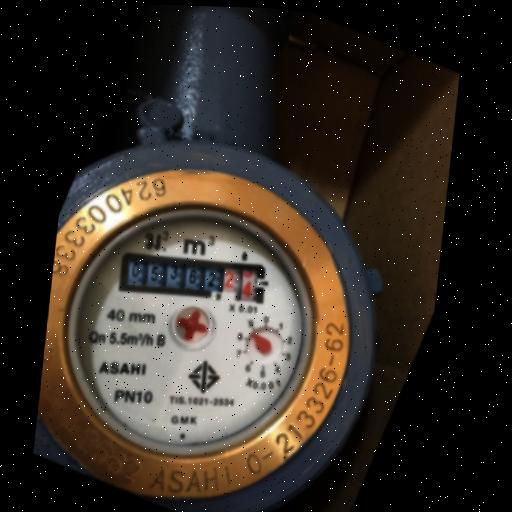0: (127, 260, 144, 286)
2: (204, 268, 220, 292), (223, 269, 238, 293)
3: (166, 264, 182, 289)
4: (240, 268, 256, 299)
5: (147, 262, 163, 287)
6: (185, 266, 201, 289)
border_water_meter_number: (118, 250, 269, 307)
